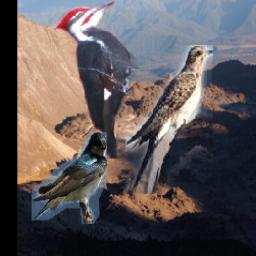Cuckoo: (125, 46, 213, 195)
Swallow: (32, 132, 107, 224)
Woodpecker: (53, 0, 141, 159)
